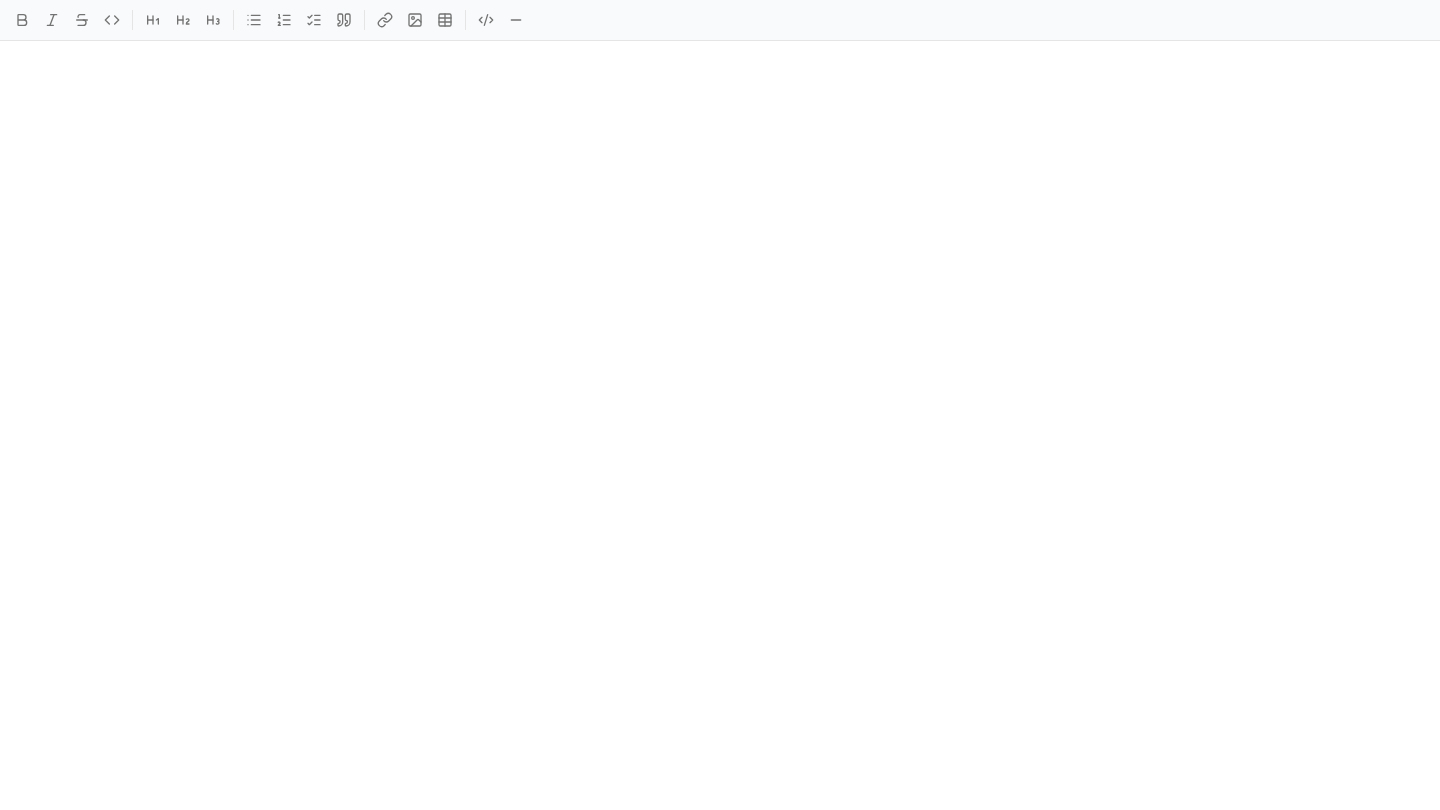
Test: EditorToolbar › 点击斜体 → 选区被 * 包围
Click the button named "斜体".
click(52, 20)  # box left=38, top=6, right=66, bottom=34
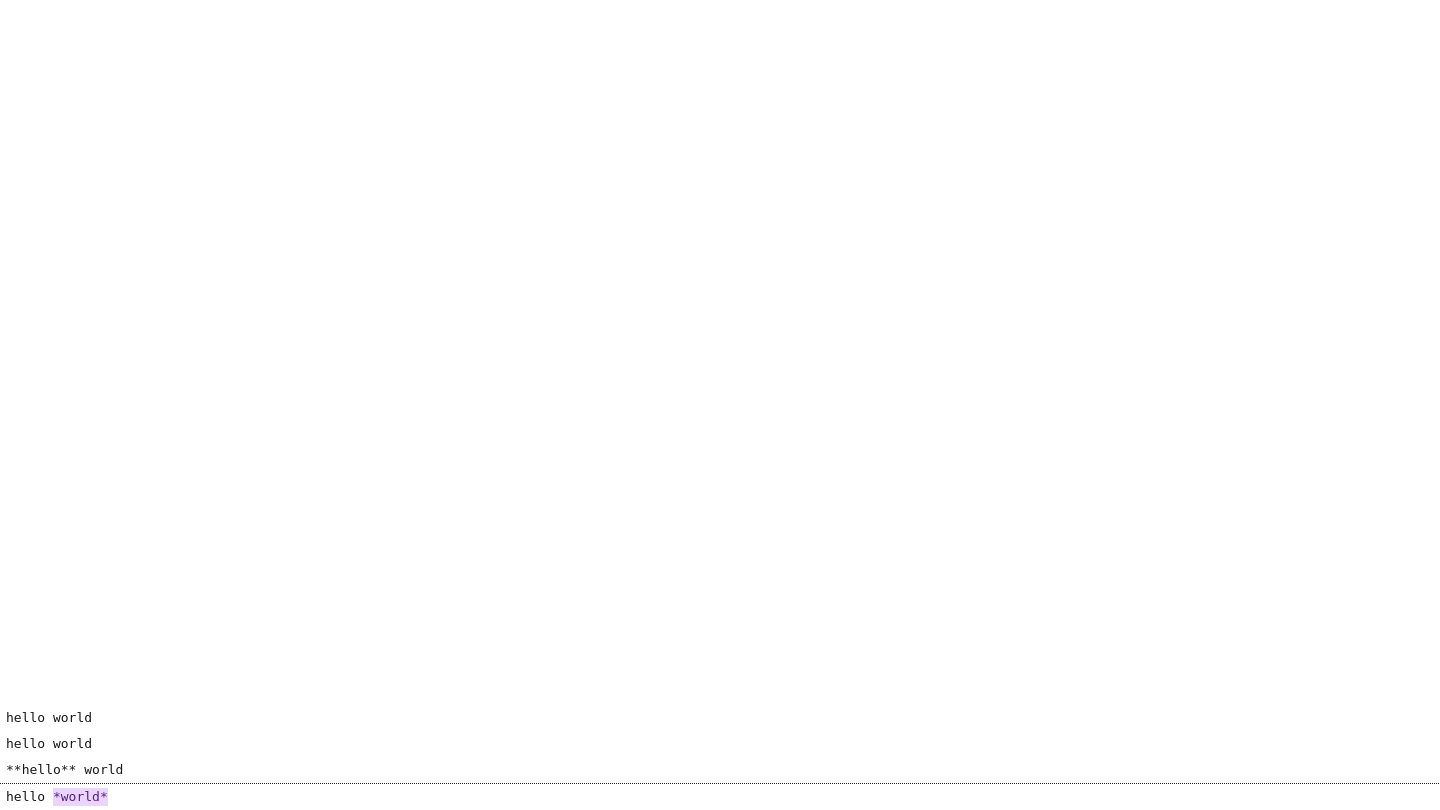
Check: the text box labelled "hello *world*" is shown, box left=6, top=789, right=108, bottom=804
